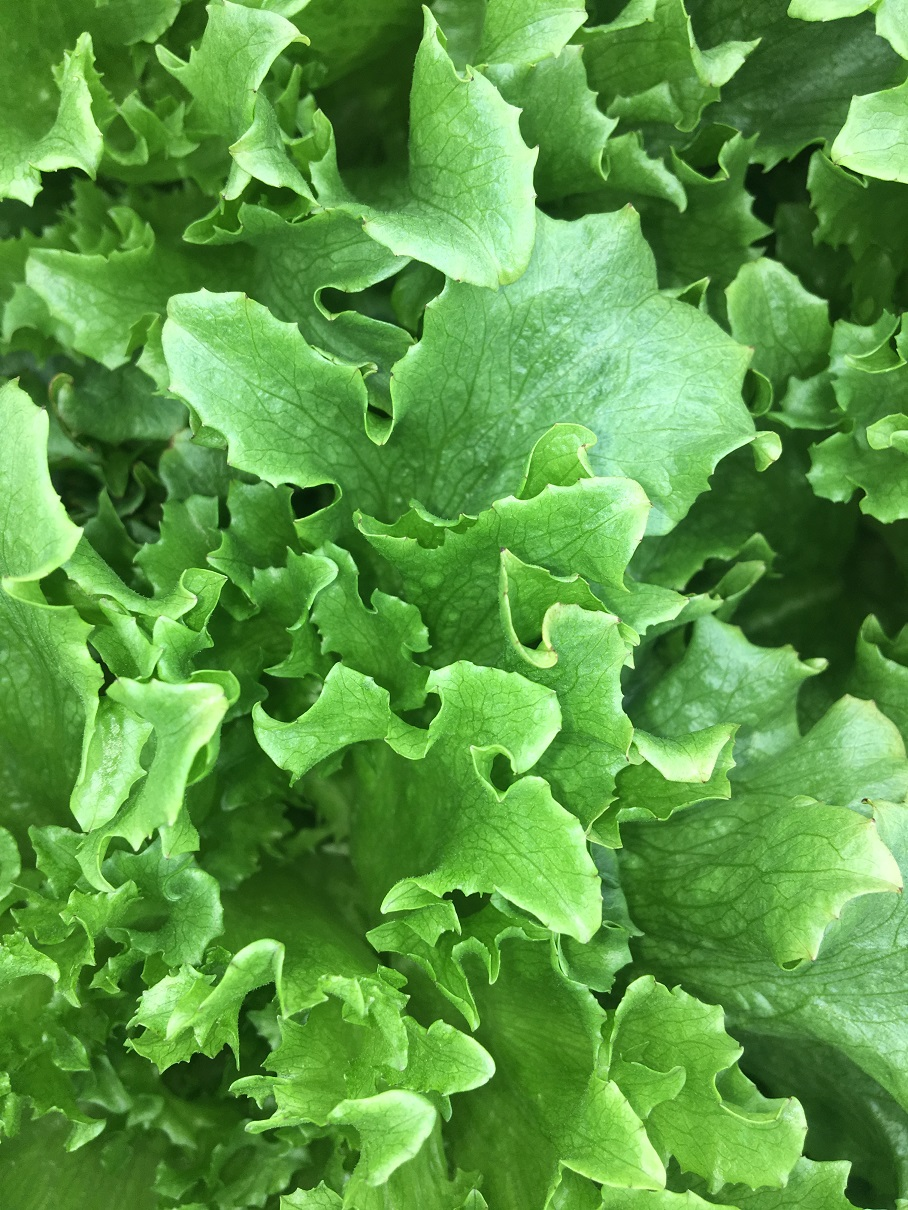tipburn: (842, 775, 891, 829), (477, 524, 525, 574), (152, 418, 197, 461), (210, 184, 260, 222), (20, 387, 60, 432), (872, 866, 908, 913), (530, 627, 570, 669), (608, 740, 647, 780), (601, 591, 639, 632), (452, 62, 490, 101), (565, 423, 599, 463), (818, 146, 863, 175), (688, 761, 722, 797), (343, 504, 379, 534), (244, 79, 271, 116), (798, 944, 835, 971), (231, 283, 269, 309), (820, 901, 852, 927), (183, 583, 214, 609), (376, 358, 407, 383), (451, 497, 479, 521), (444, 269, 472, 292), (698, 69, 722, 95), (570, 564, 592, 589), (566, 470, 587, 493)
